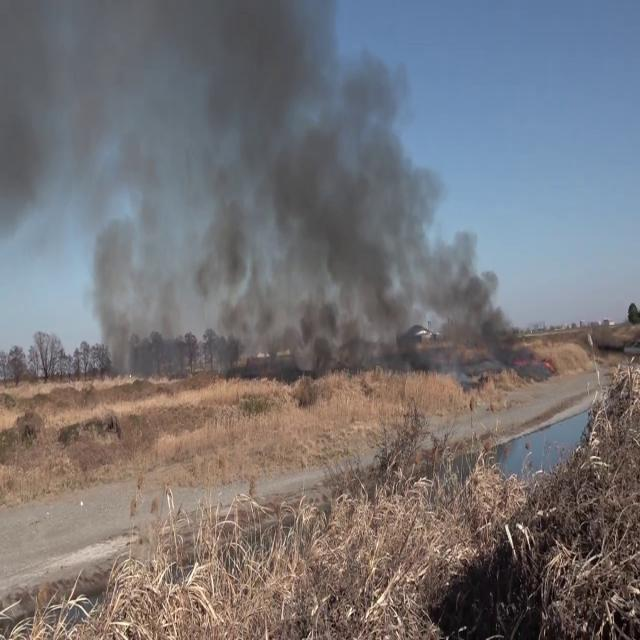Smoke: (5, 0, 530, 373)
